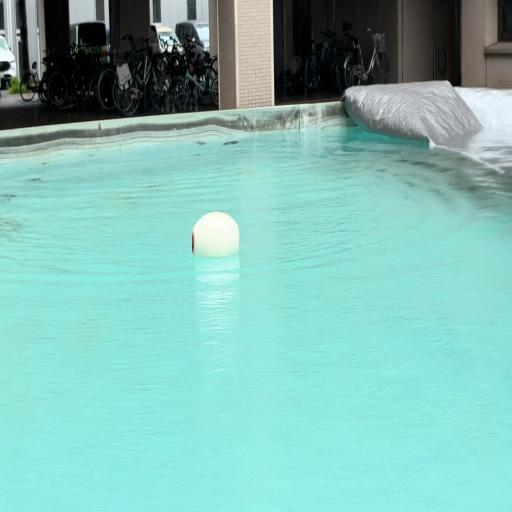white buoy: (192, 212, 239, 257)
